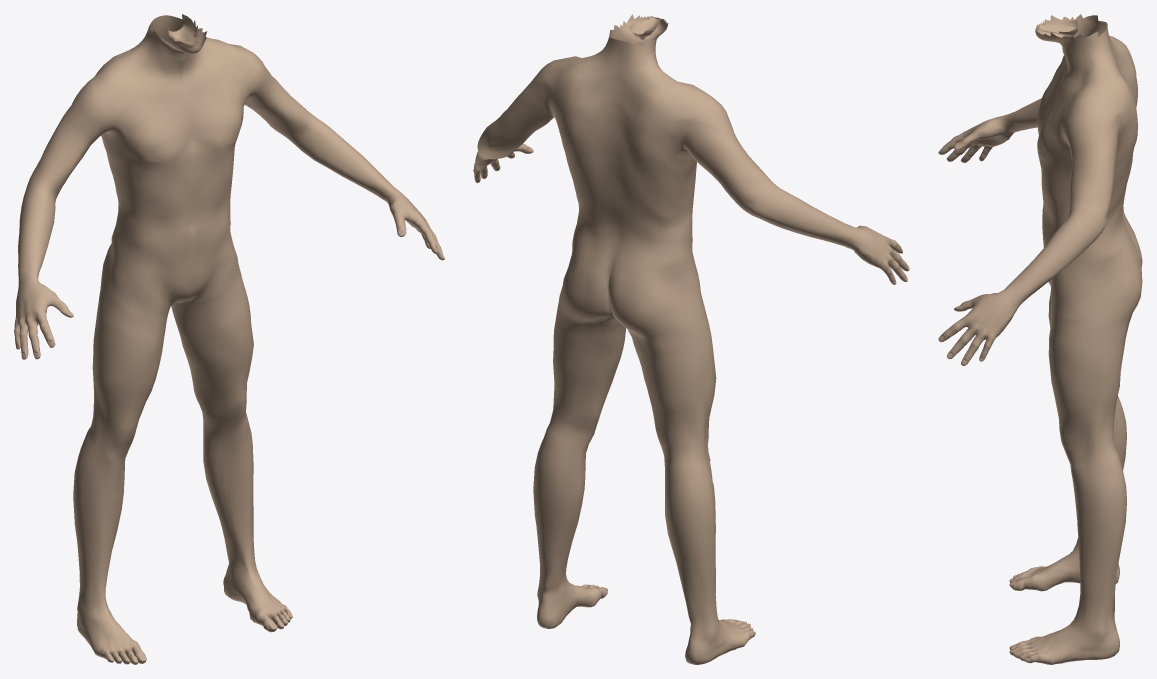
File: body_male.obj
3 views of the same model, side by side, from view 1: azimuth 30°, elevation 25°; view 2: azimuth 150°, elevation 25°; view 3: azimuth 270°, elevation 25° (orthographic).
Visible parts, largest first — view 1: Body_male; view 2: Body_male; view 3: Body_male.
Boxes of the visible parts, x1,y1,x2,y2 form: Body_male: (14, 14, 444, 664); Body_male: (473, 14, 909, 664); Body_male: (938, 14, 1142, 664).
Bounding box in the file's own units: 11.33 × 15.45 × 4.77.
